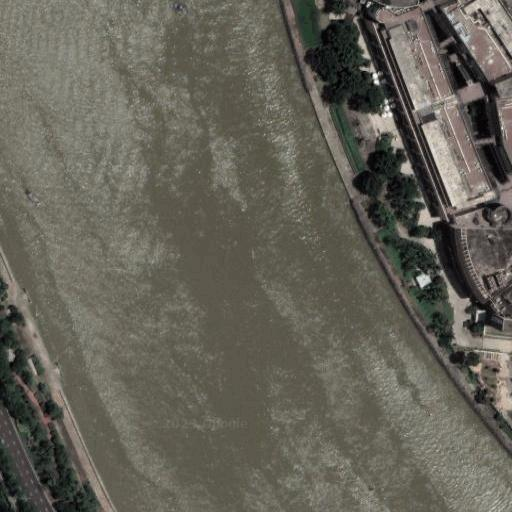building: (373, 7, 495, 215), (454, 228, 512, 315), (453, 81, 484, 106), (409, 267, 432, 290), (378, 0, 416, 6), (503, 319, 512, 330)
